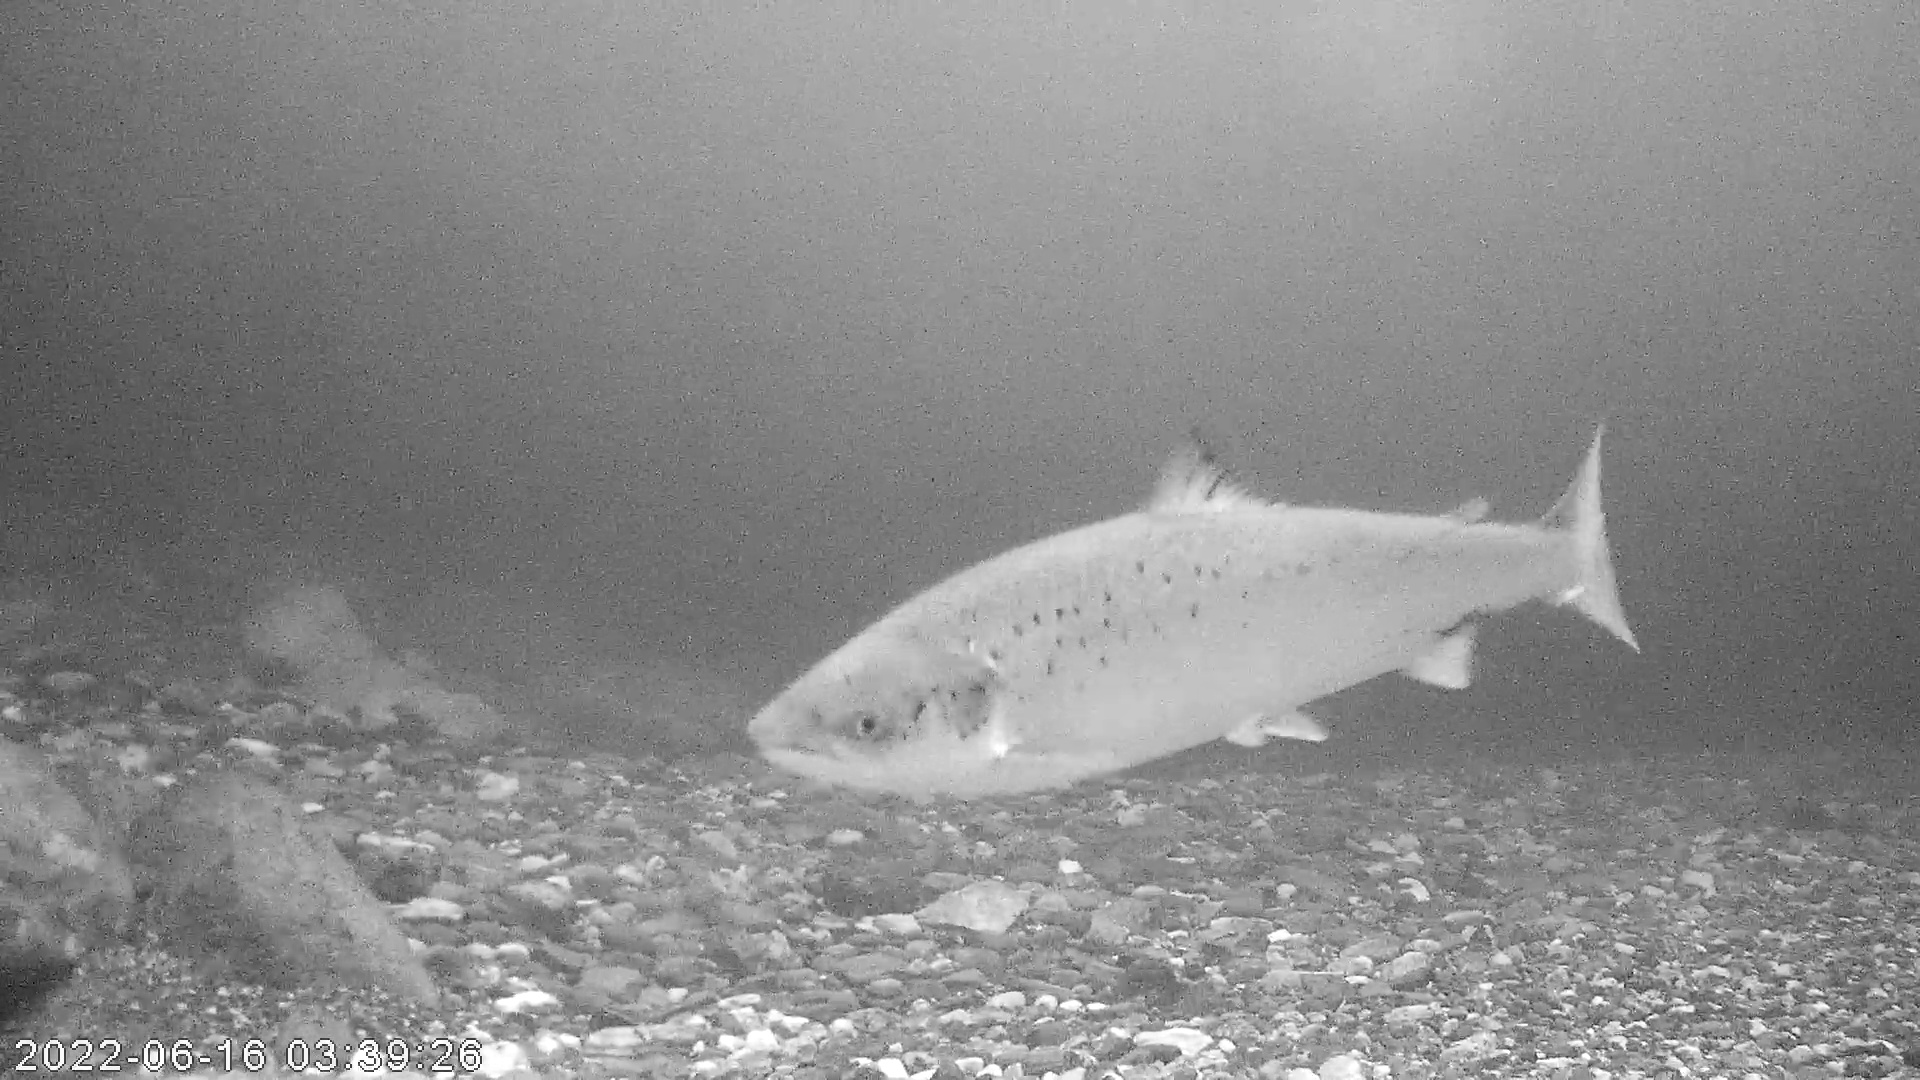salmon: (744, 419, 1644, 803)
